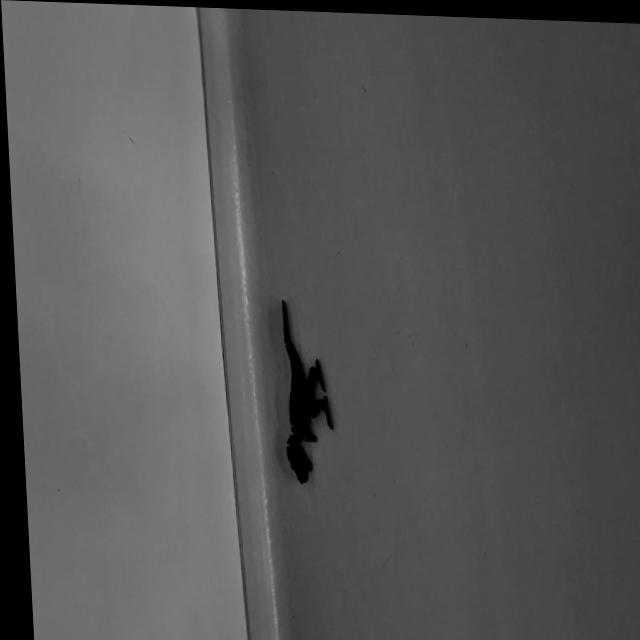dino: (277, 299, 337, 487)
